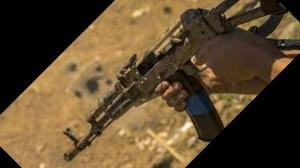larga: (63, 0, 300, 161)
